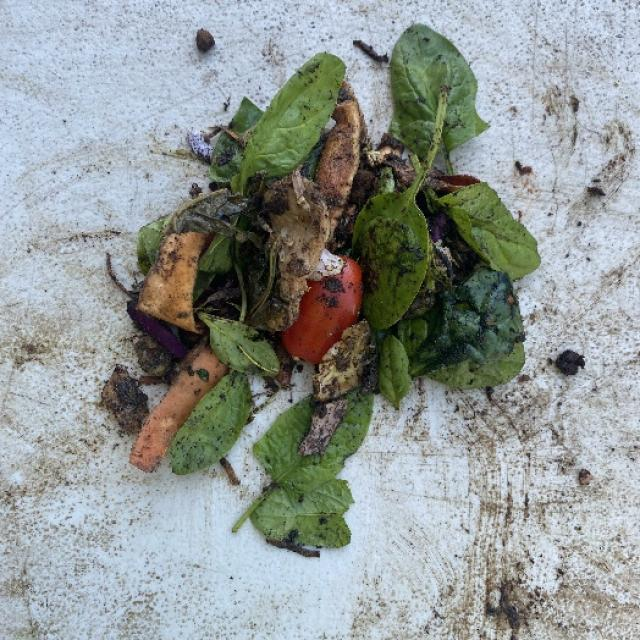organik: (120, 55, 521, 565), (252, 383, 372, 538), (237, 42, 353, 172), (390, 28, 494, 170), (130, 335, 239, 467), (351, 188, 438, 344), (276, 246, 374, 376), (138, 213, 210, 340)
